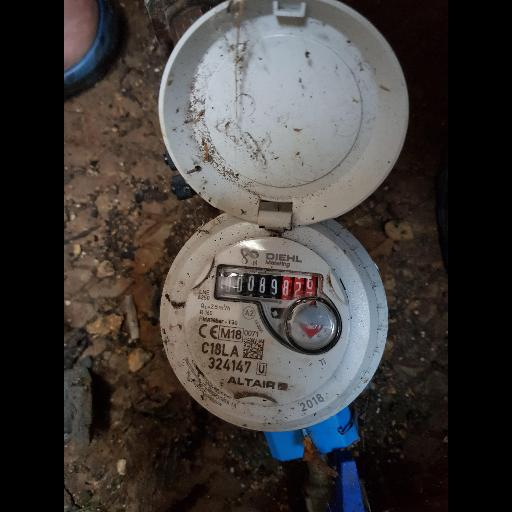0: (246, 273, 260, 297), (221, 272, 235, 295), (234, 273, 248, 296)
2: (294, 278, 307, 301)
6: (305, 279, 319, 298)
8: (257, 275, 272, 298), (281, 276, 295, 300)
9: (269, 275, 283, 299)
border_water_meter_number: (213, 264, 324, 311)
